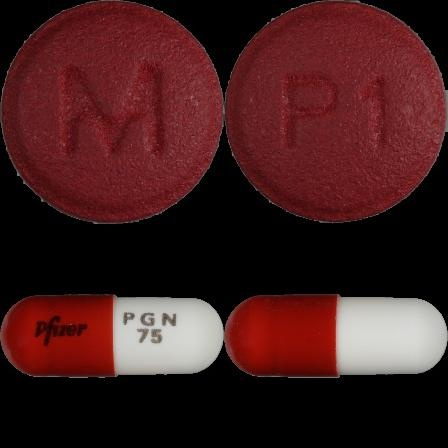55289-568: (0, 0, 224, 224)
